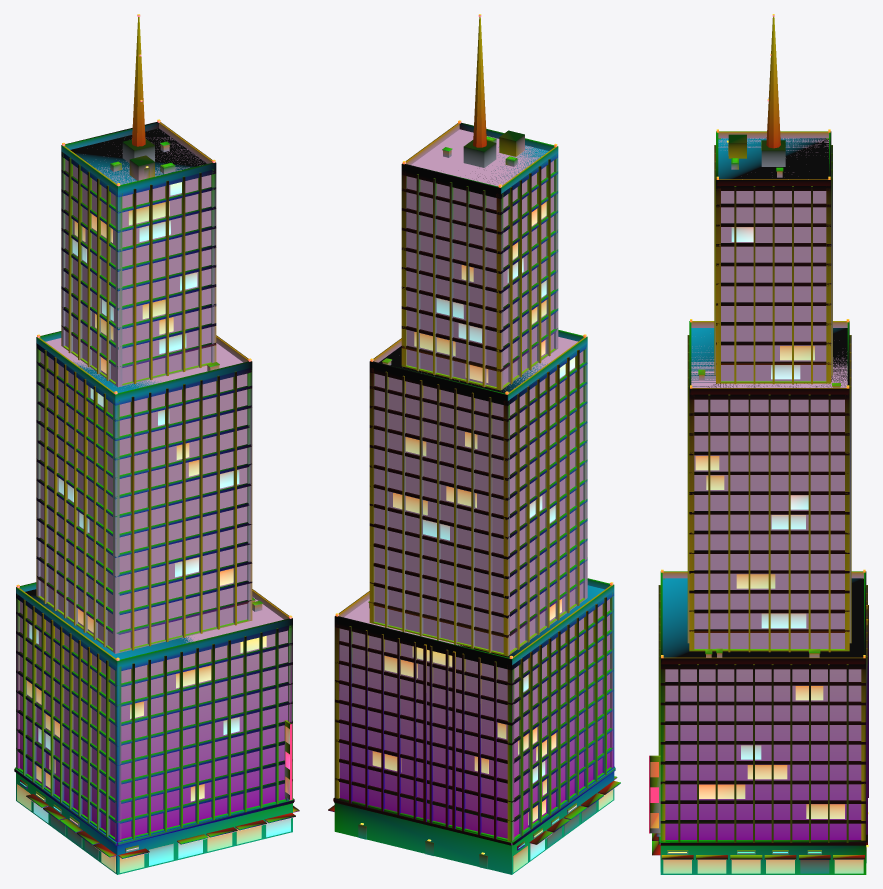
File: Tower_Spire_V1.fbx
3 renders of one model, left to right at view 1: azimuth 30°, elevation 25°; view 2: azimuth 150°, elevation 25°; view 3: azimuth 270°, elevation 25°, orthographic.
Visible parts, largest first — view 1: Tower_Spire_V1_LOD0; view 2: Tower_Spire_V1_LOD0; view 3: Tower_Spire_V1_LOD0.
Boxes of the visible parts, x1,y1,x2,y2 form: Tower_Spire_V1_LOD0: [14, 14, 299, 874]; Tower_Spire_V1_LOD0: [328, 14, 620, 874]; Tower_Spire_V1_LOD0: [649, 14, 868, 874].
Size of what is drawn, in the model's own units: 36.8 by 148 by 36.31.
